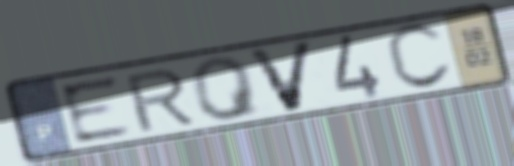4: (331, 32, 384, 101)
C: (382, 21, 457, 93)
E: (55, 73, 137, 147)
Q: (186, 53, 266, 123)
R: (121, 65, 198, 135)
V: (243, 38, 318, 115)
